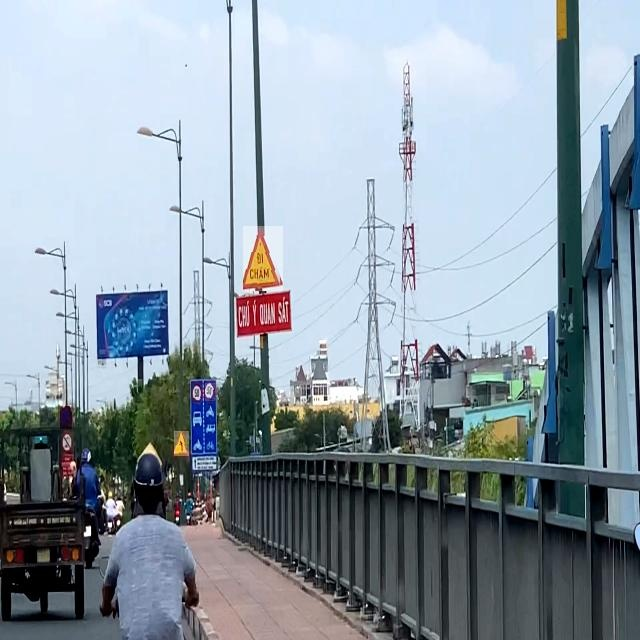bien_cam: (243, 226, 283, 291), (174, 431, 189, 456), (61, 406, 72, 429), (192, 384, 202, 402), (205, 384, 215, 402)
